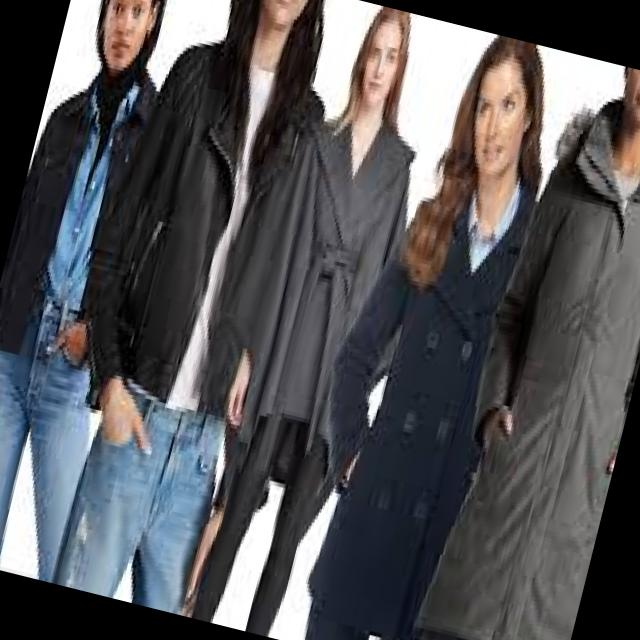Jacket: (275, 140, 563, 640), (62, 29, 348, 478)
